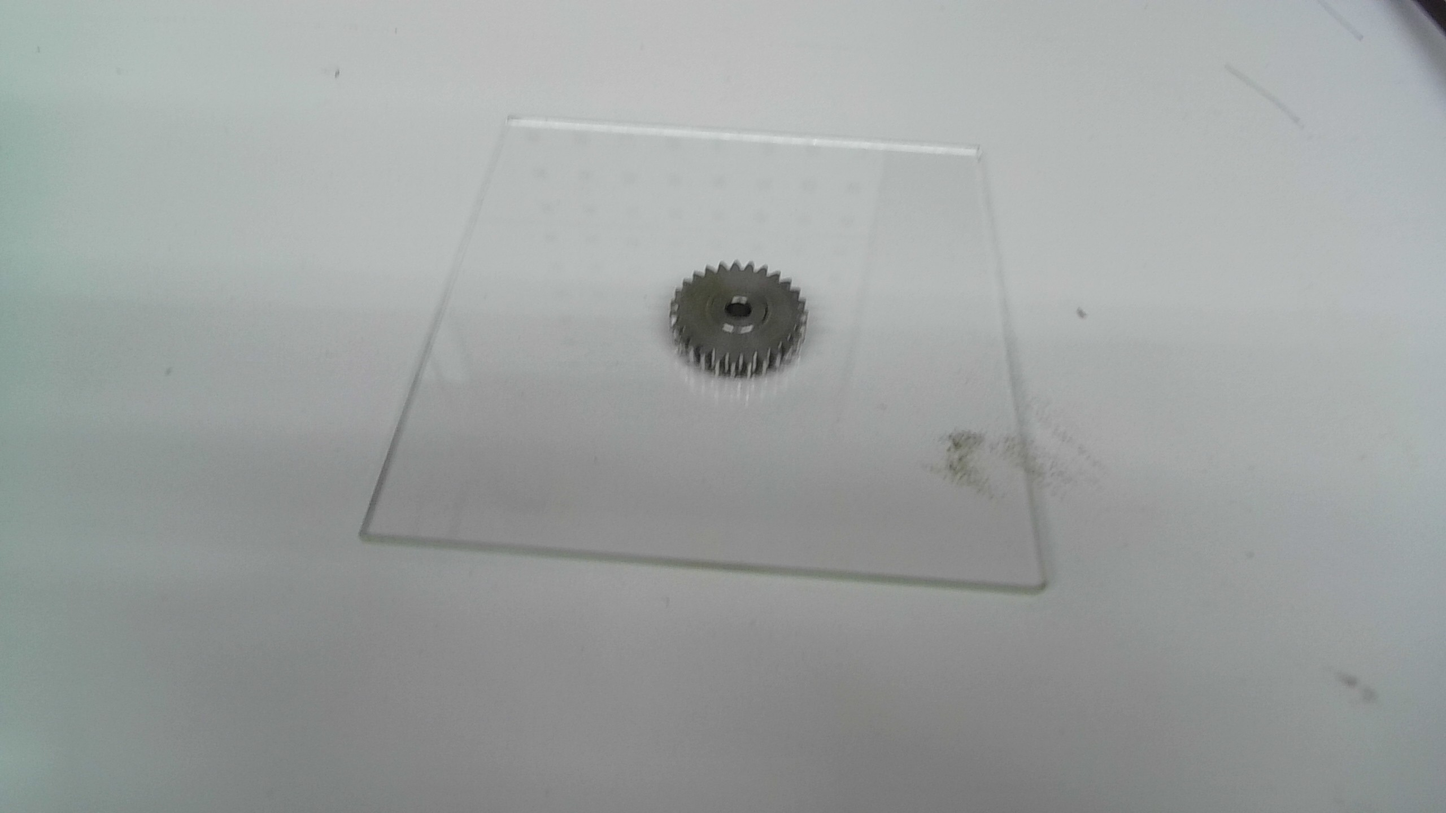gear: (667, 260, 811, 382)
